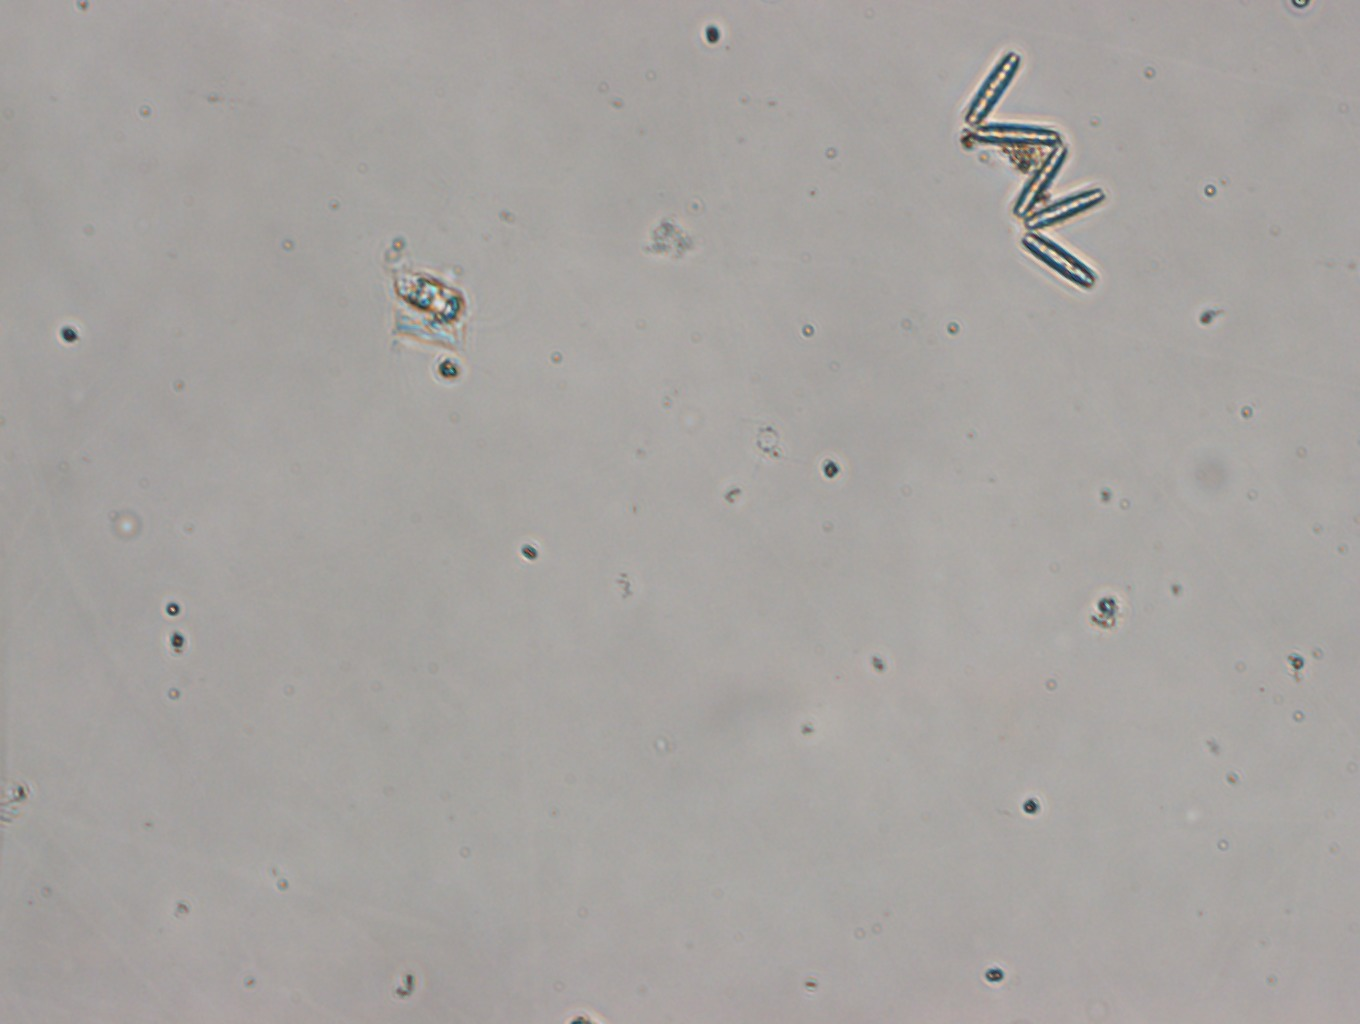thalassionema nitzschioides: (959, 47, 1110, 293)
